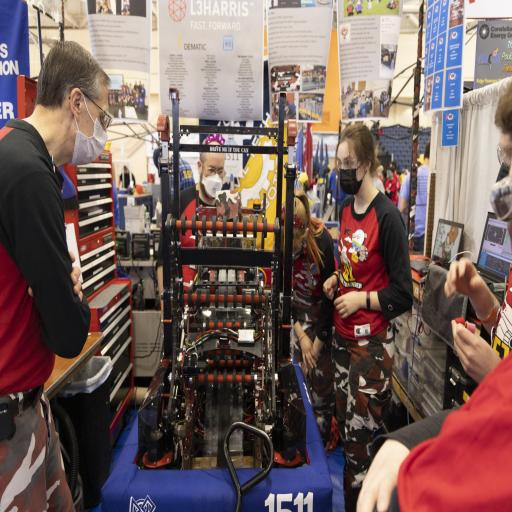robot: (102, 82, 332, 512)
